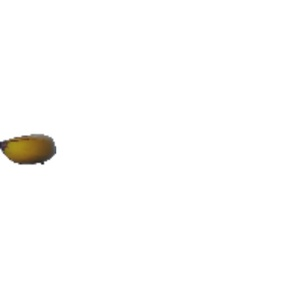banana: (2, 126, 58, 167)
